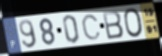0: (62, 14, 81, 45)
8: (38, 17, 56, 47)
9: (18, 19, 38, 50)
B: (101, 9, 125, 41)
C: (81, 13, 102, 41)
O: (122, 7, 145, 39)
